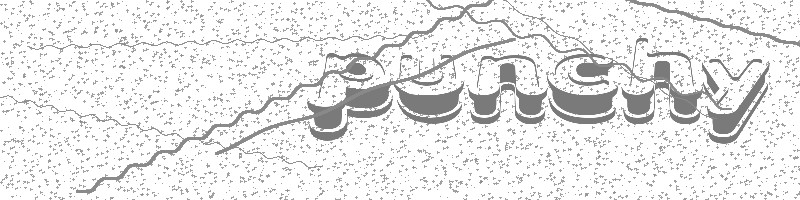c: (545, 49, 619, 125)
h: (619, 30, 703, 127)
n: (466, 49, 550, 126)
p: (305, 46, 396, 145)
u: (394, 49, 462, 124)
y: (699, 56, 770, 146)
